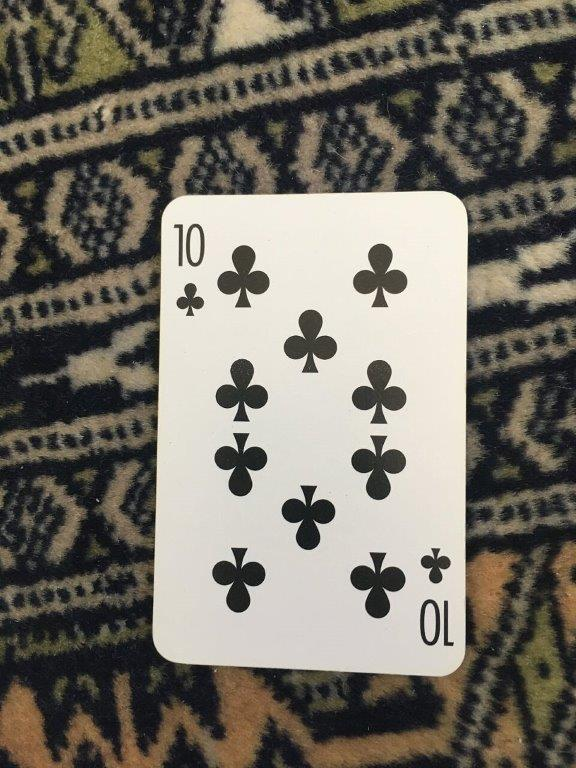10C: (148, 187, 472, 680)
